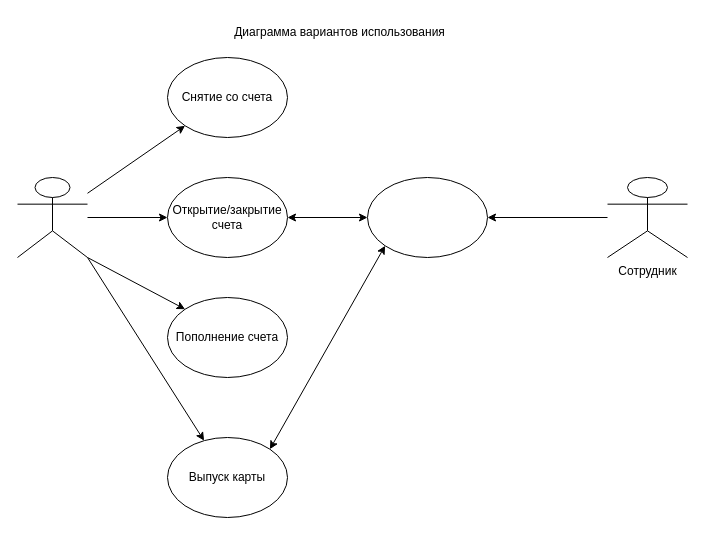
Image size: 705x535. Some labels were removed from this diagram. The shapes that lost their labels are listed below. From the top down, each one's centre as x and y in pixels, then its label:
the point at 52,217: Клиент
the point at 427,217: обработка запросов
